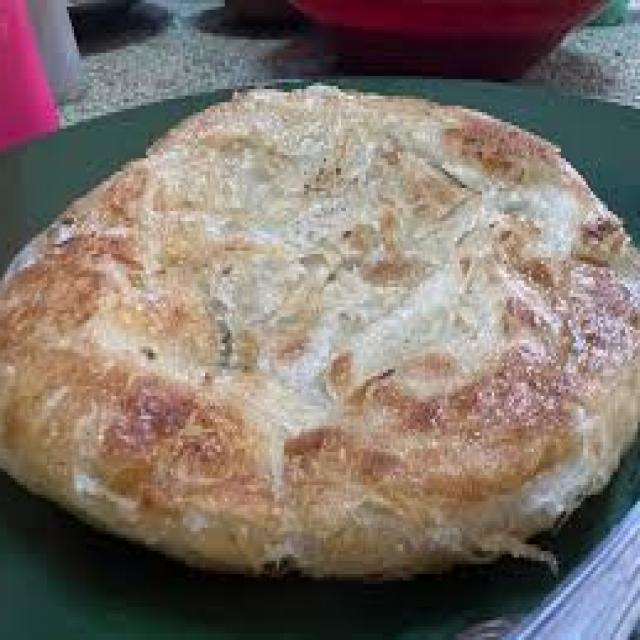Paratha: (0, 109, 636, 552)
